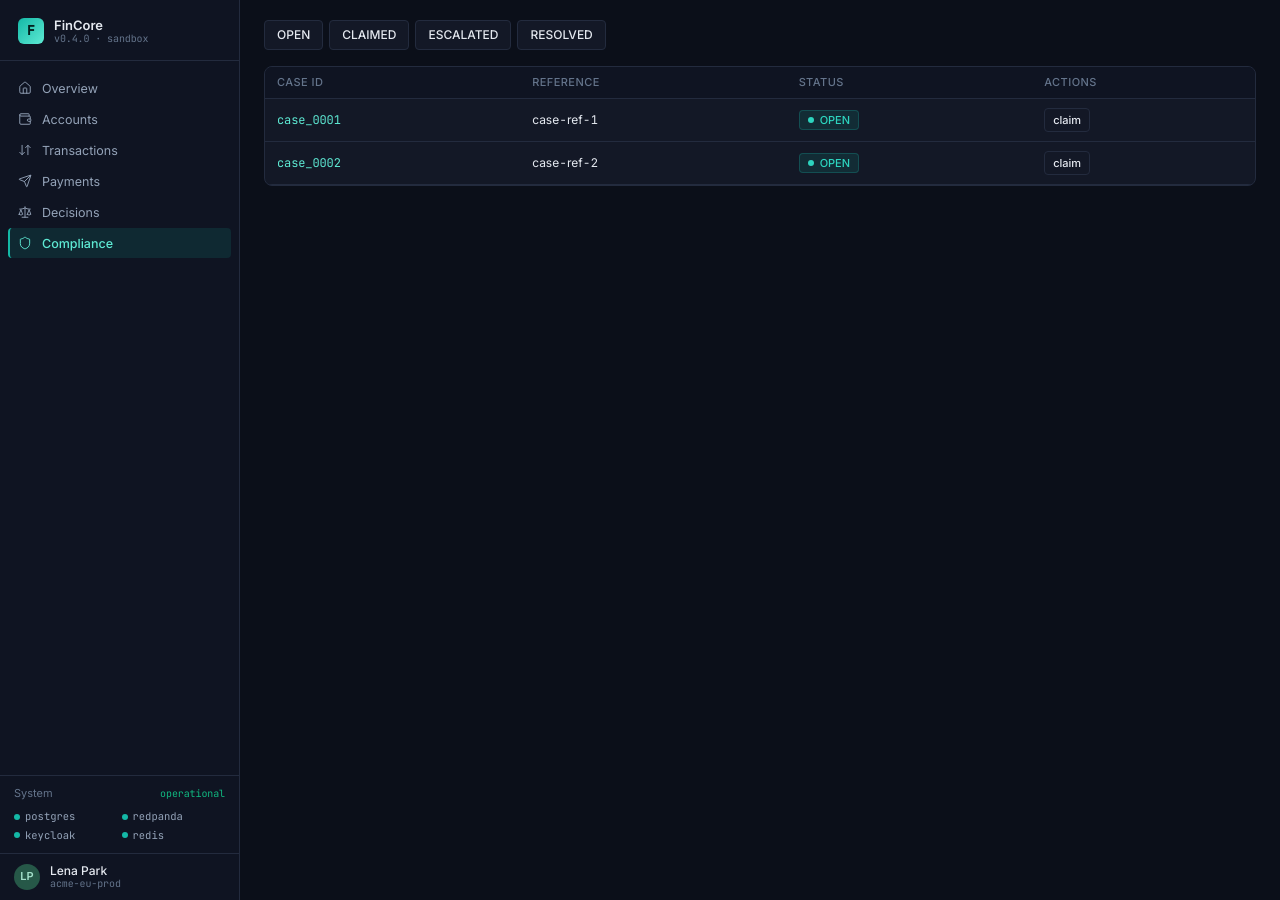
Test: Cases › surfaces an error when an action fails
Expected: the text "case-ref-1" is shown, [520,99,787,142]
Click the button "claim" in the row of "case_0001" at (1067, 120), box [1044,108,1090,132]
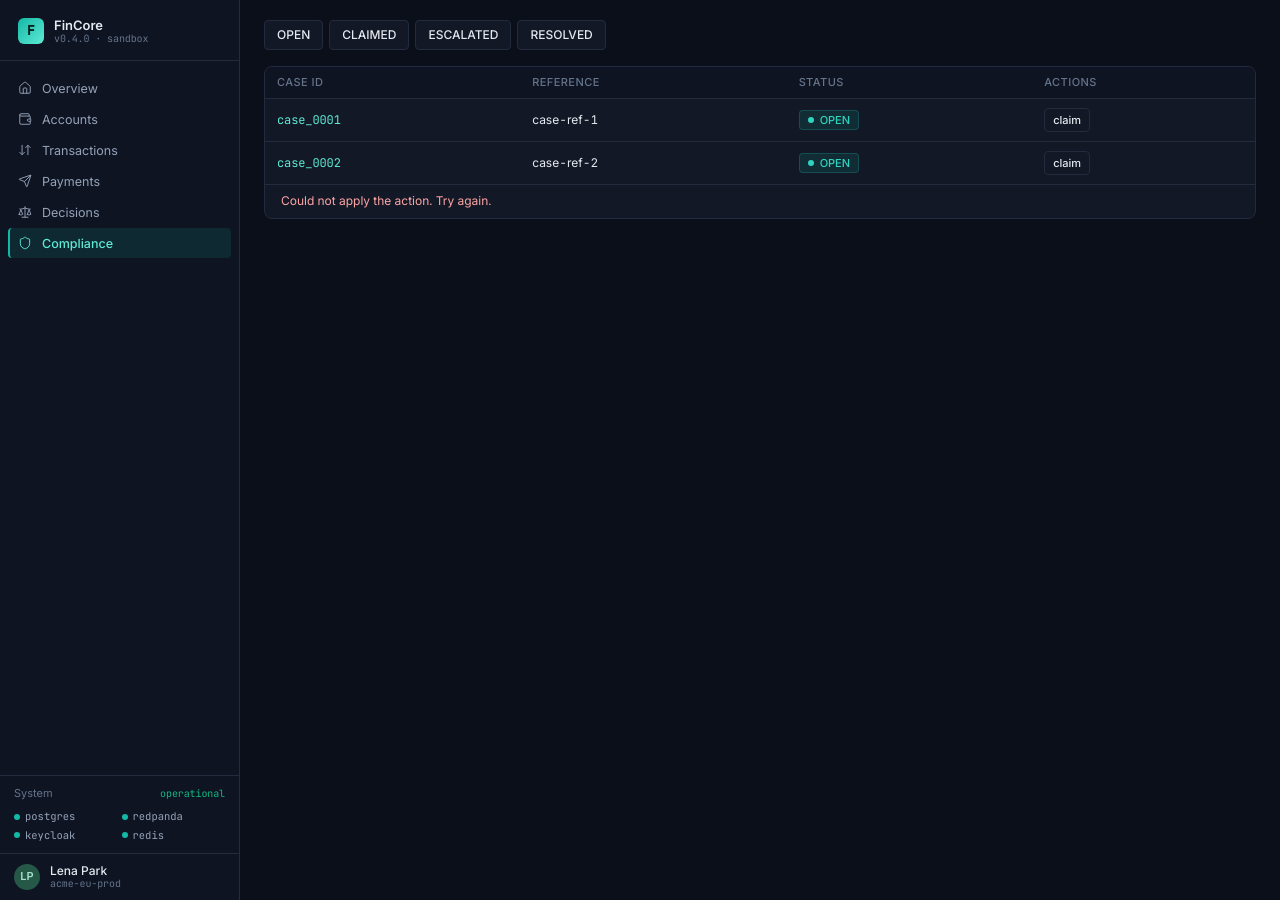
Expected: the message shows "Could not apply the action", [281,193,492,208]
